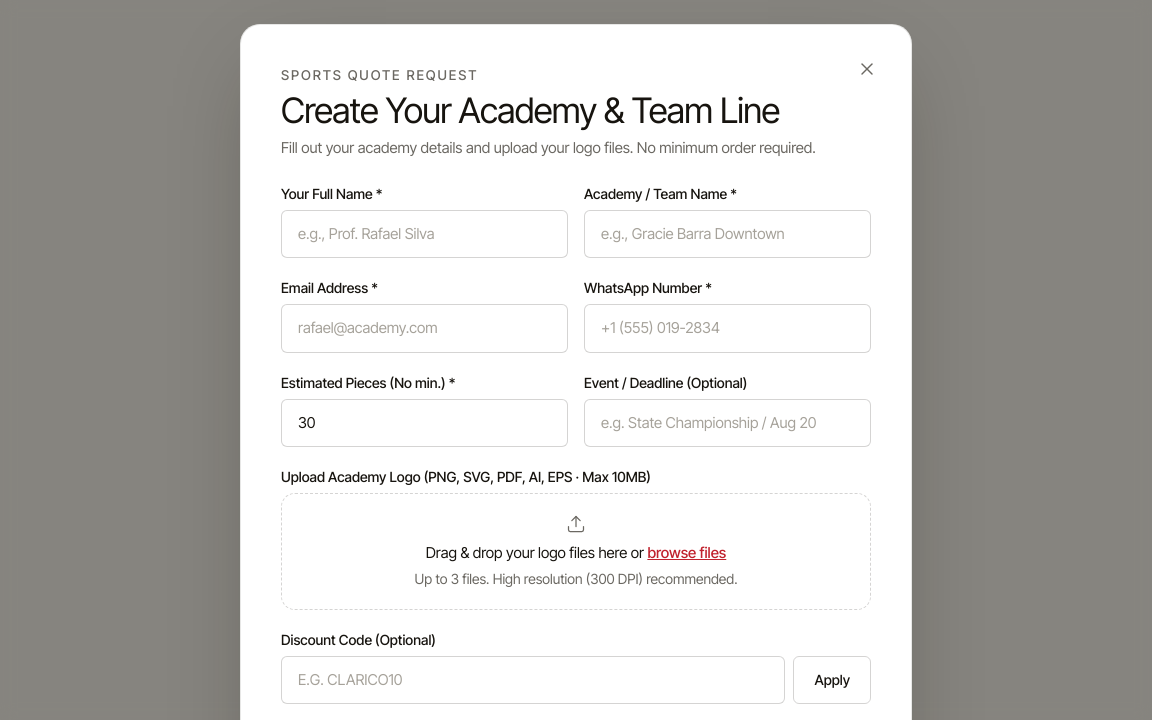
Test: QuoteFormModal Component › should submit quote form and present tracking protocol on success
// Fill form fields
Type "Rafael Mendes" into the field with placeholder "e.g., Prof. Rafael Silva" at (424, 234), box top-left (281, 210), bottom-right (568, 258)
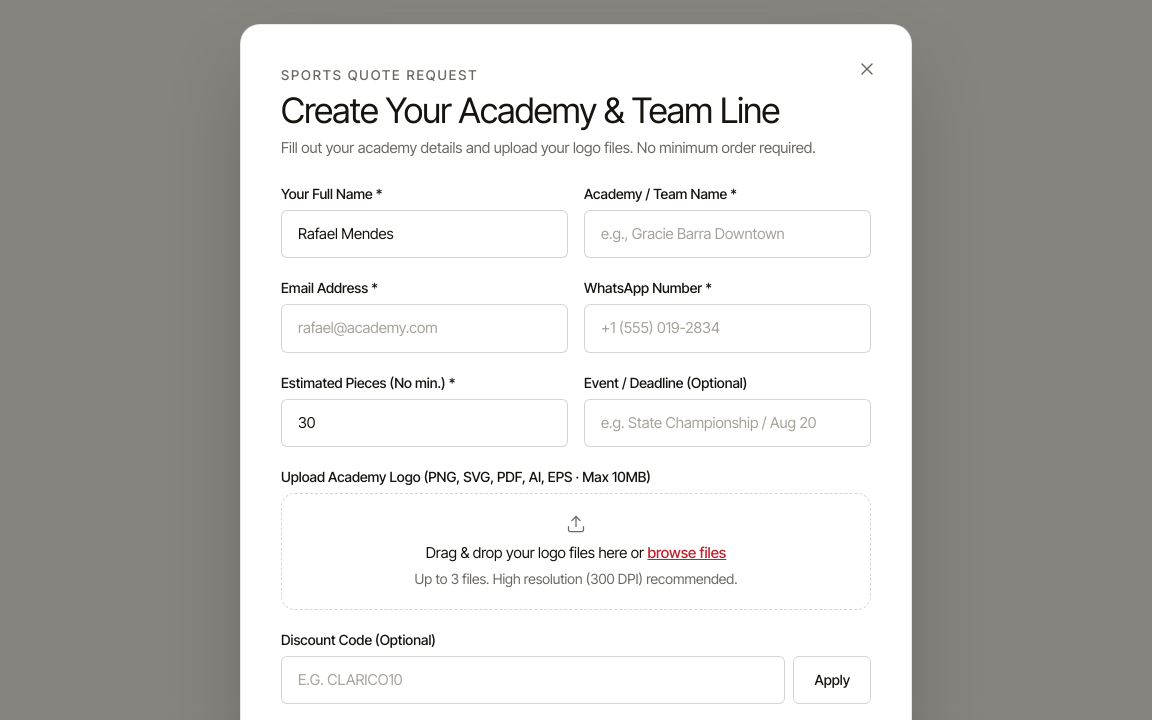
Type "AOJ Academy" into the field with placeholder "e.g., Gracie Barra Downtown" at (728, 234), box top-left (584, 210), bottom-right (871, 258)
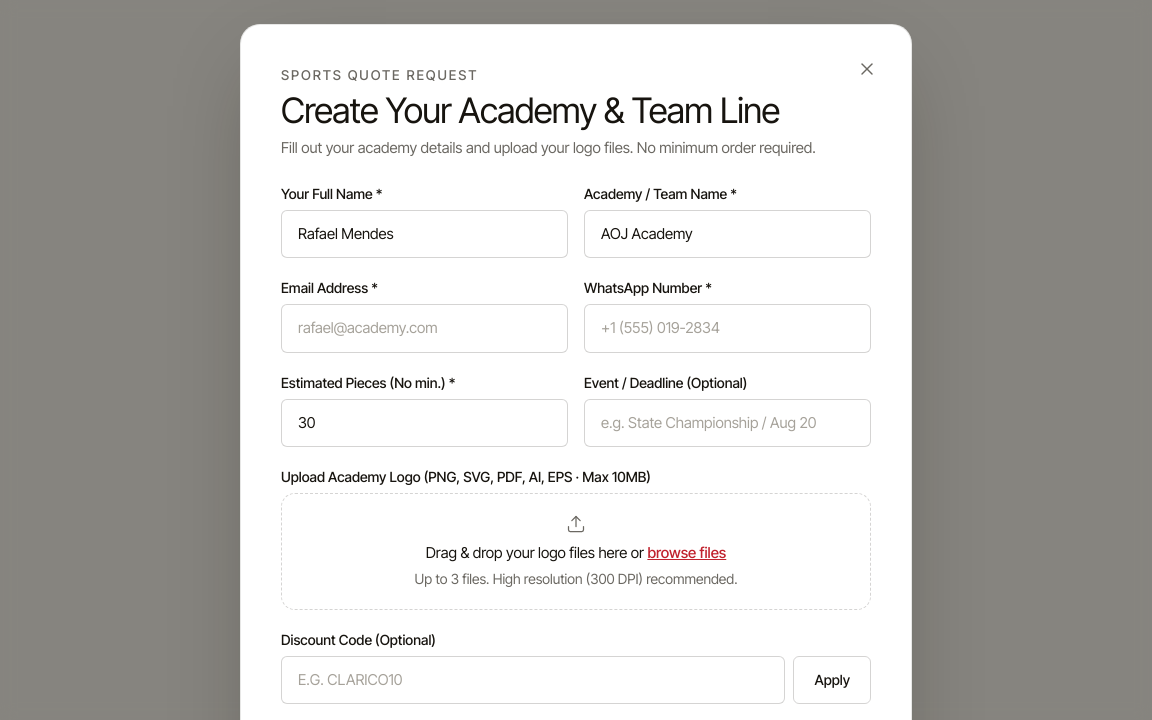
Type "rafael@aoj.com" into the field with placeholder "rafael@academy.com" at (424, 328), box top-left (281, 304), bottom-right (568, 352)
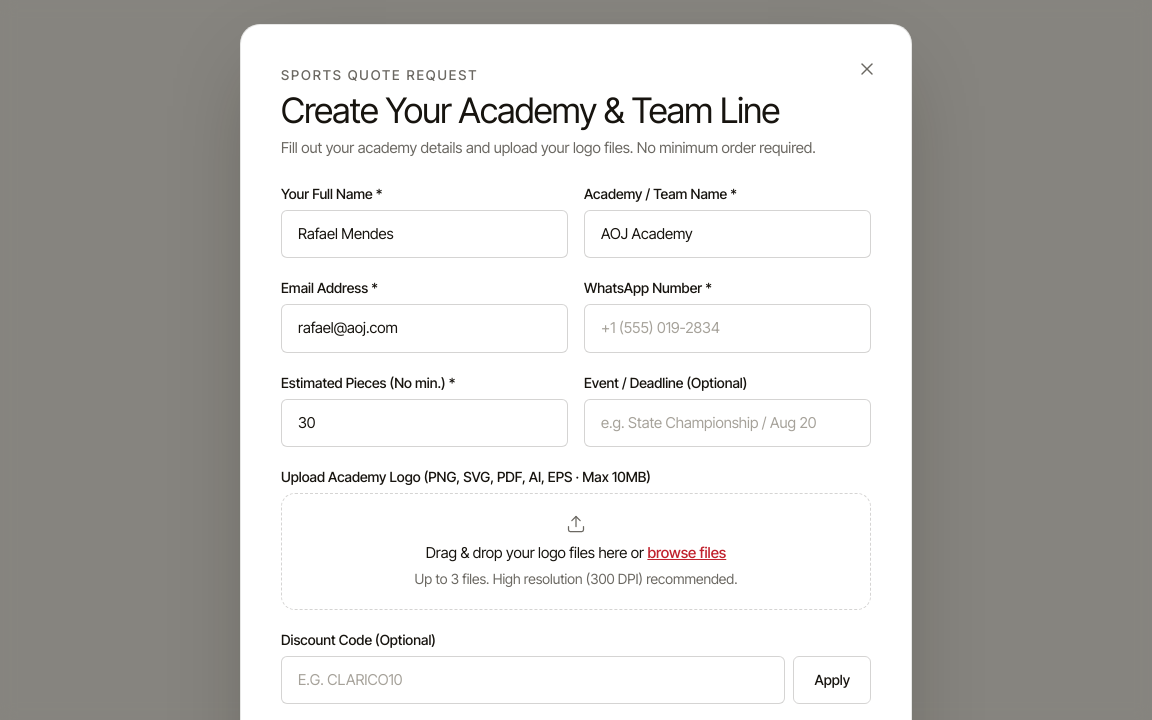
Type "+55 11 98888-7777" into the field with placeholder "+1 (555) 019-2834" at (728, 328), box top-left (584, 304), bottom-right (871, 352)
(page scrolled)
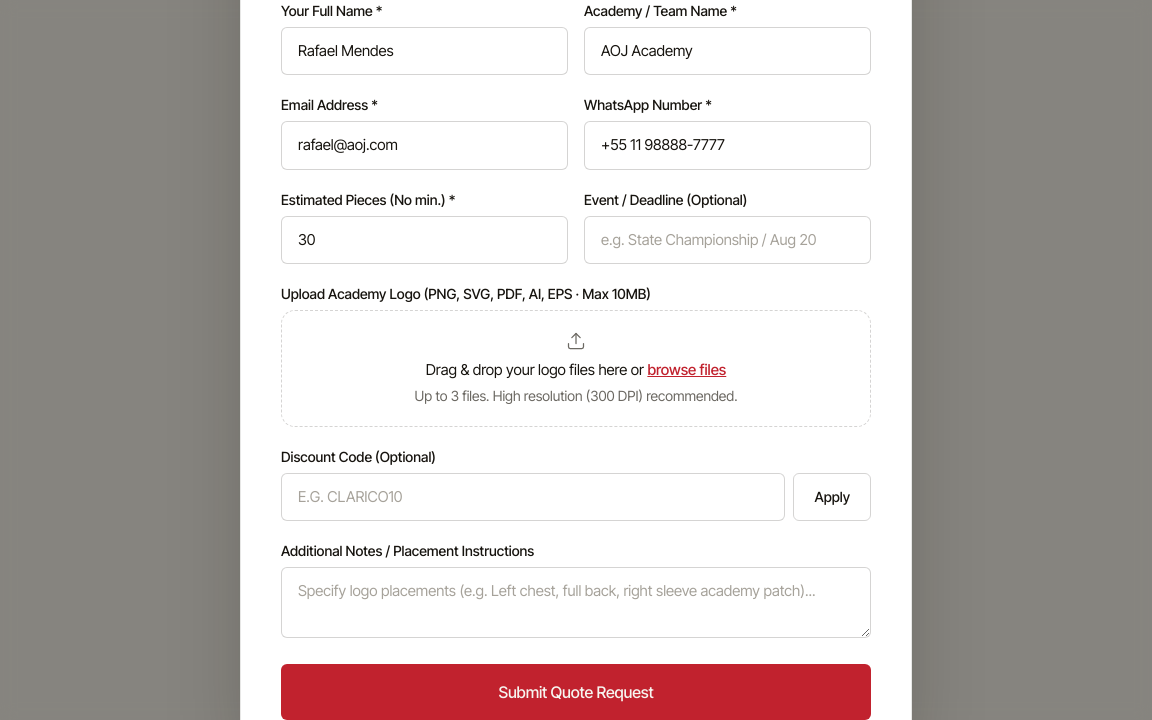
// Submit form via submit event
Submit the form, box top-left (281, 0), bottom-right (871, 719)
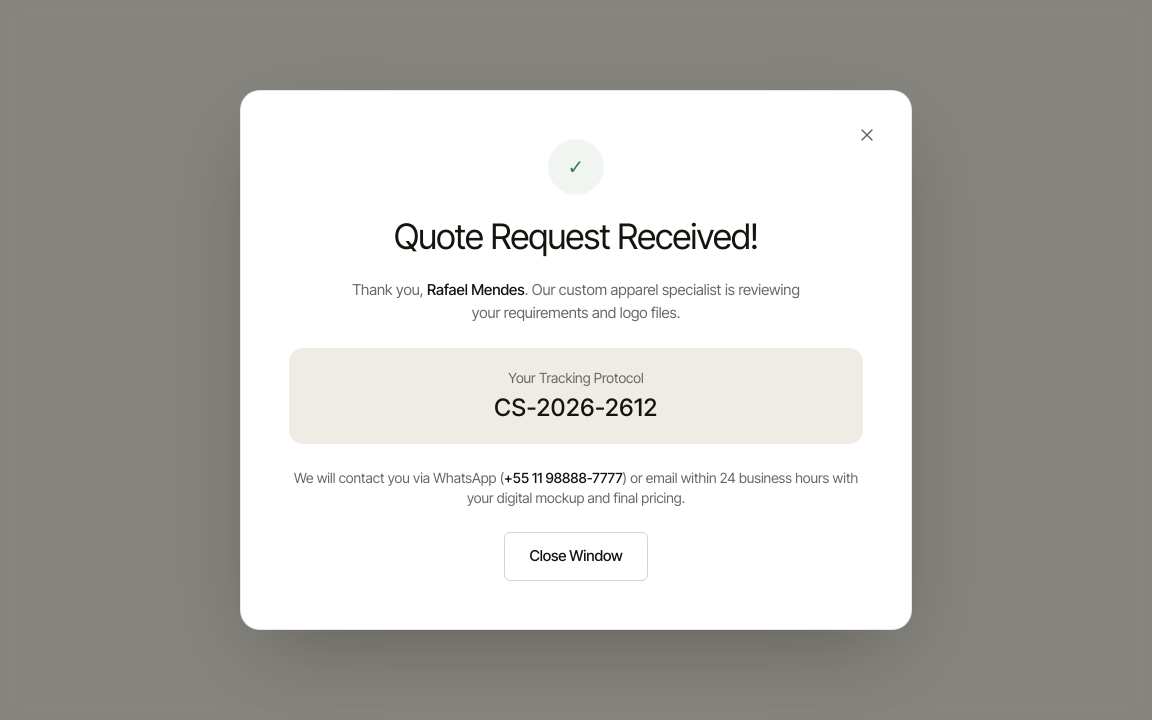
expect the heading "Quote Request Received!" is shown: met, box top-left (394, 215), bottom-right (758, 257)
expect the text "Your Tracking Protocol" is shown: met, box top-left (508, 369), bottom-right (644, 386)
